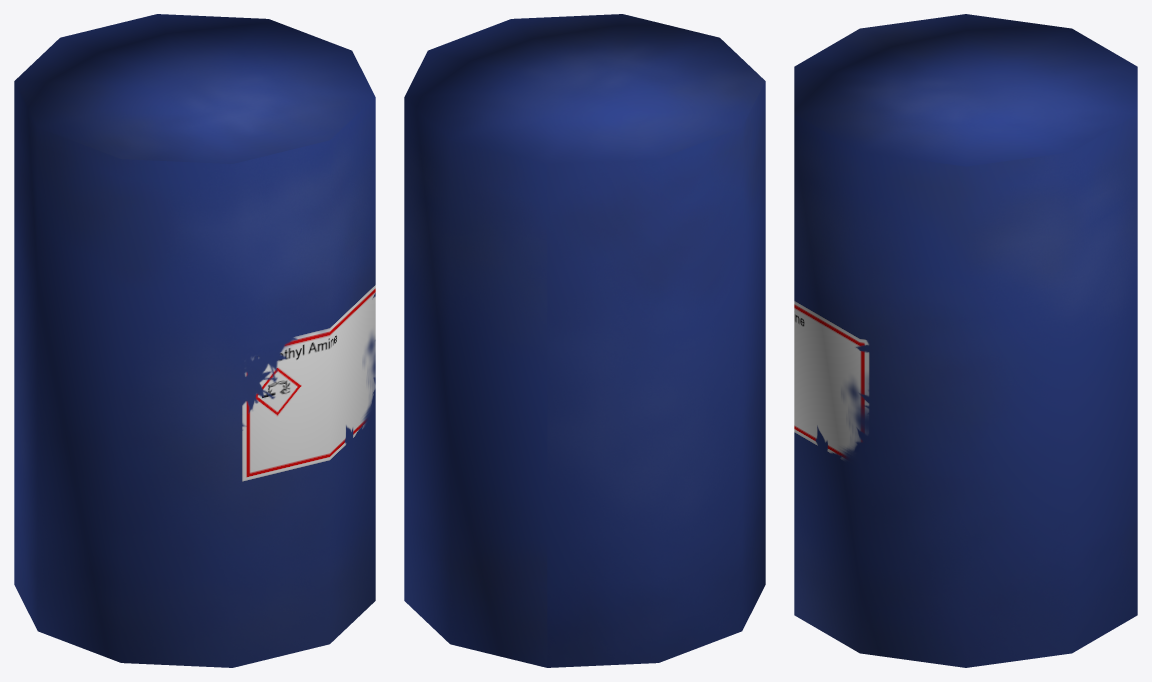
Rendered from dimethylAmine_false.fbx.
3 renders of one model, left to right at view 1: azimuth 30°, elevation 25°; view 2: azimuth 150°, elevation 25°; view 3: azimuth 270°, elevation 25°, orthographic.
Visible parts, largest first — view 1: dimethylAmine_false; view 2: dimethylAmine_false; view 3: dimethylAmine_false.
Boxes of the visible parts, x1,y1,x2,y2 form: dimethylAmine_false: (14,14,375,667); dimethylAmine_false: (404,14,765,667); dimethylAmine_false: (794,14,1137,667).
Size of the model in its own units: 0.3862 by 0.5914 by 0.3673.
Materials: 1 (1 with a texture image).
